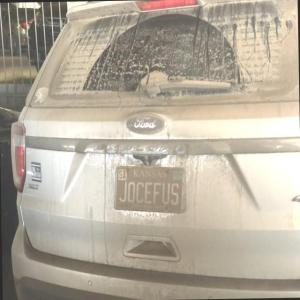Plate: (113, 166, 185, 214)
